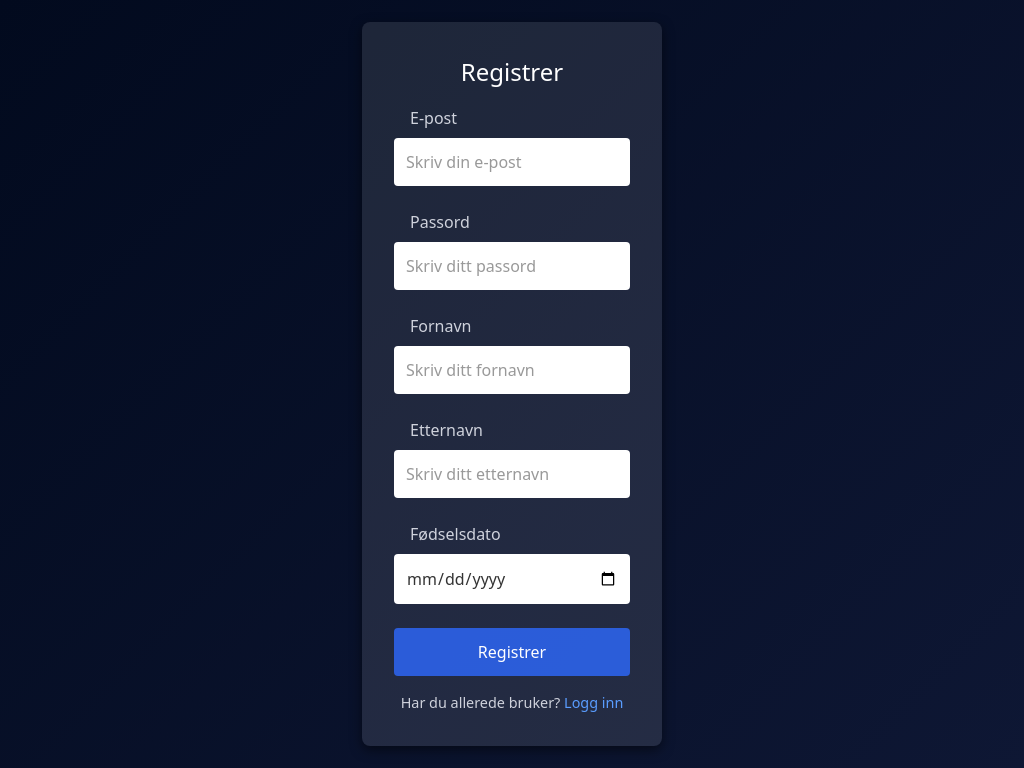
it: displays error message on invalid password
This screenshot has width=1024, height=768.
Step 1. Type "valid@example.com" into the field with placeholder "Skriv din e-post" → (512, 162), box [394,138,630,186]
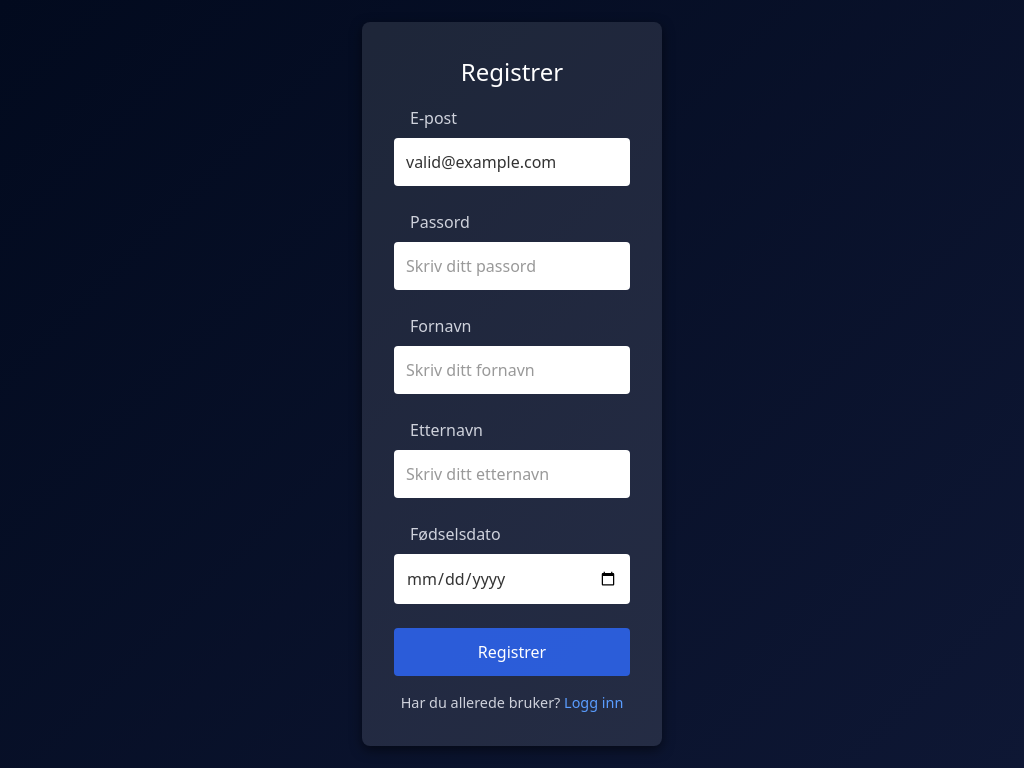
Step 2. Type "invalidpassword" into the password field with placeholder "Skriv ditt passord" → (512, 266), box [394,242,630,290]
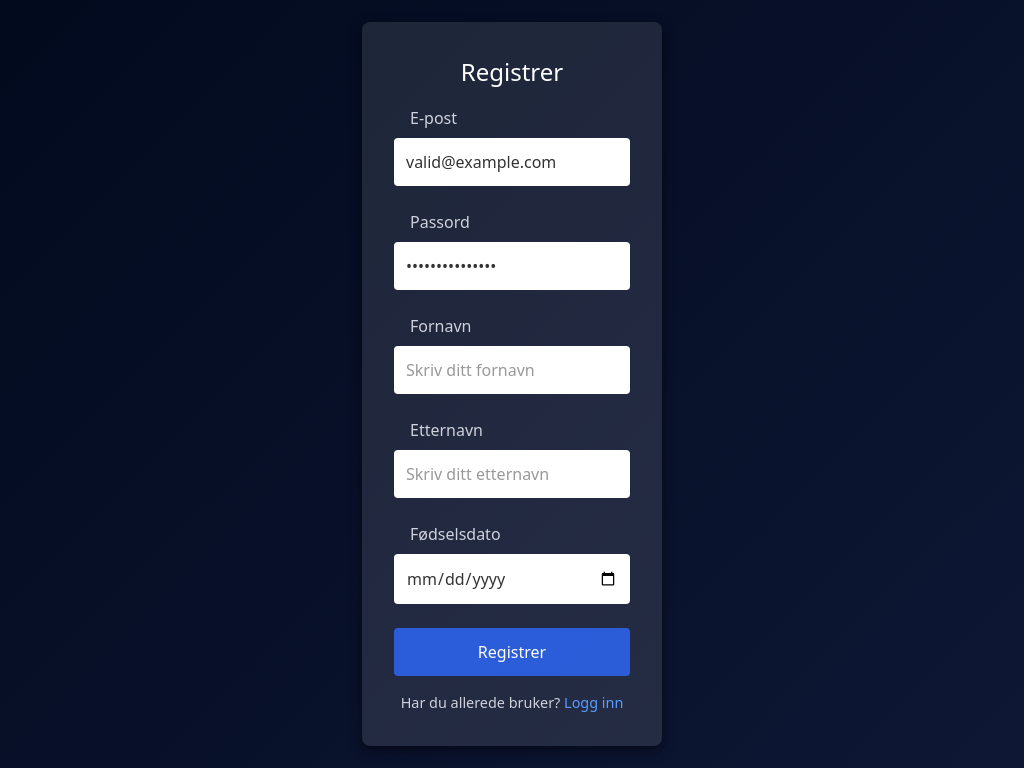
Step 3. Type "Fornavn" into the field with placeholder "Skriv ditt fornavn" → (512, 370), box [394,346,630,394]
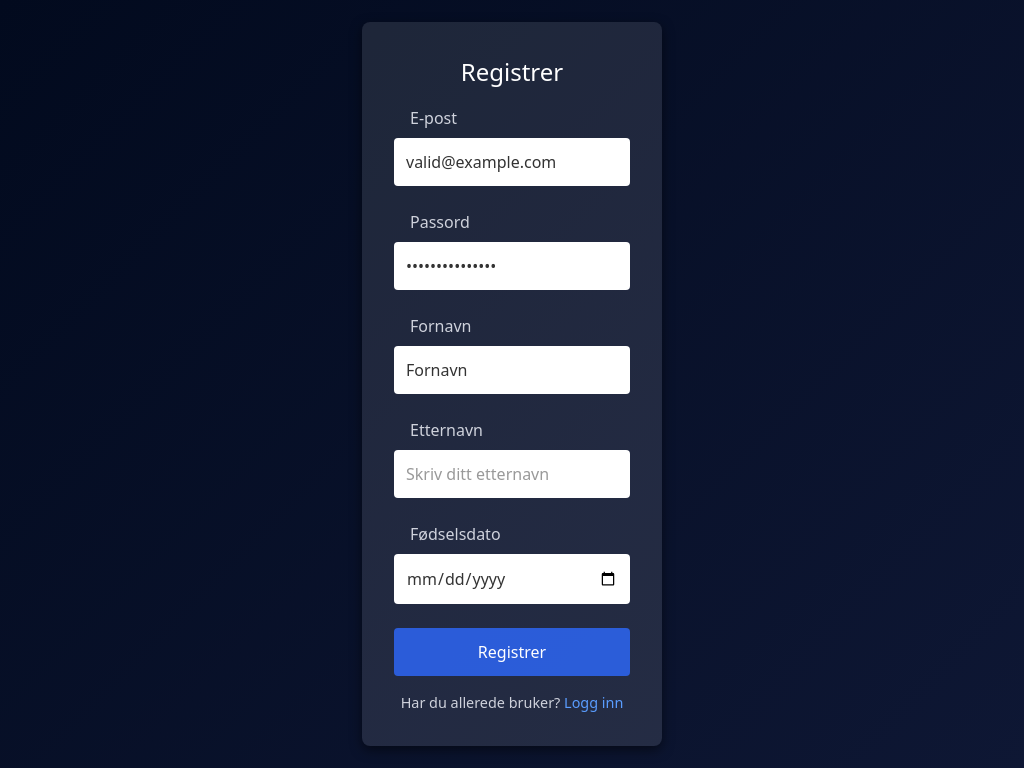
Step 4. Type "Etternavn" into the field with placeholder "Skriv ditt etternavn" → (512, 474), box [394,450,630,498]
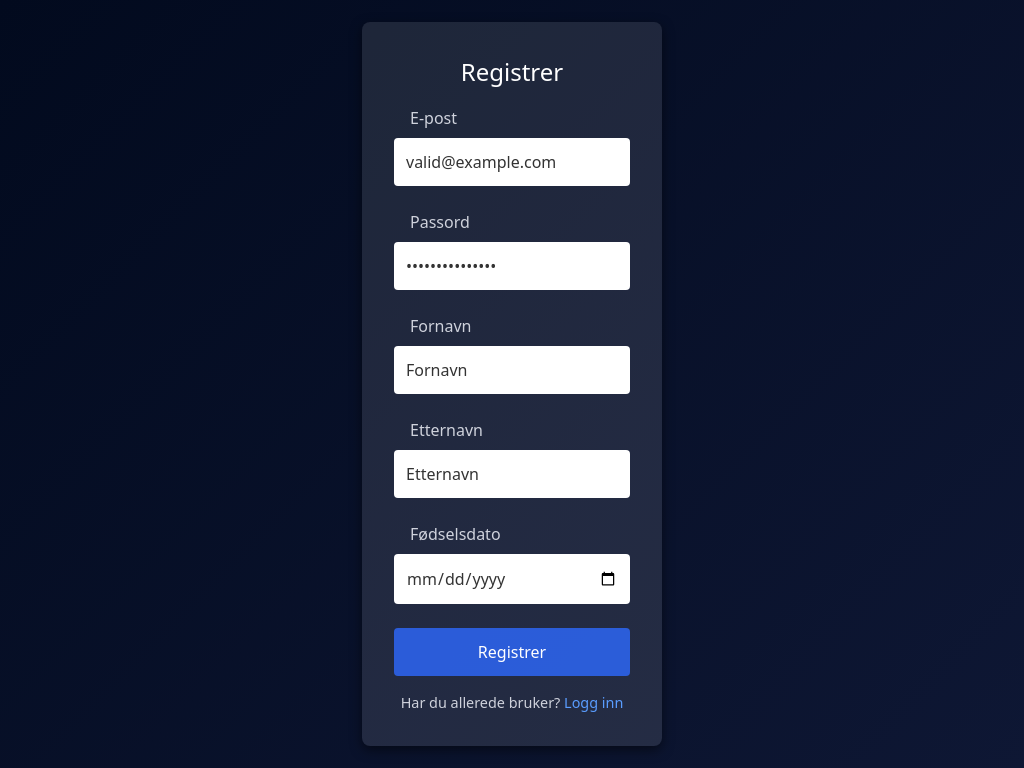
Step 5. Type "2000-01-01" into the date field with placeholder "Enter your date of birth" → (512, 579), box [394,554,630,604]
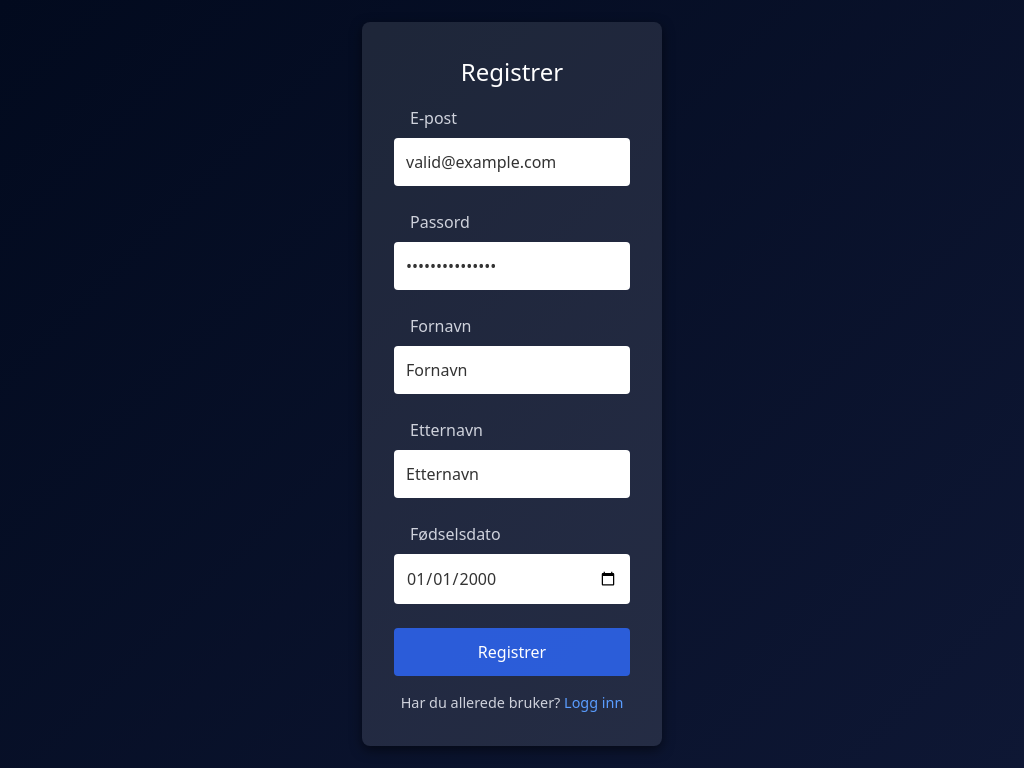
Step 6. Click the button "Registrer" → (512, 652), box [394,628,630,676]
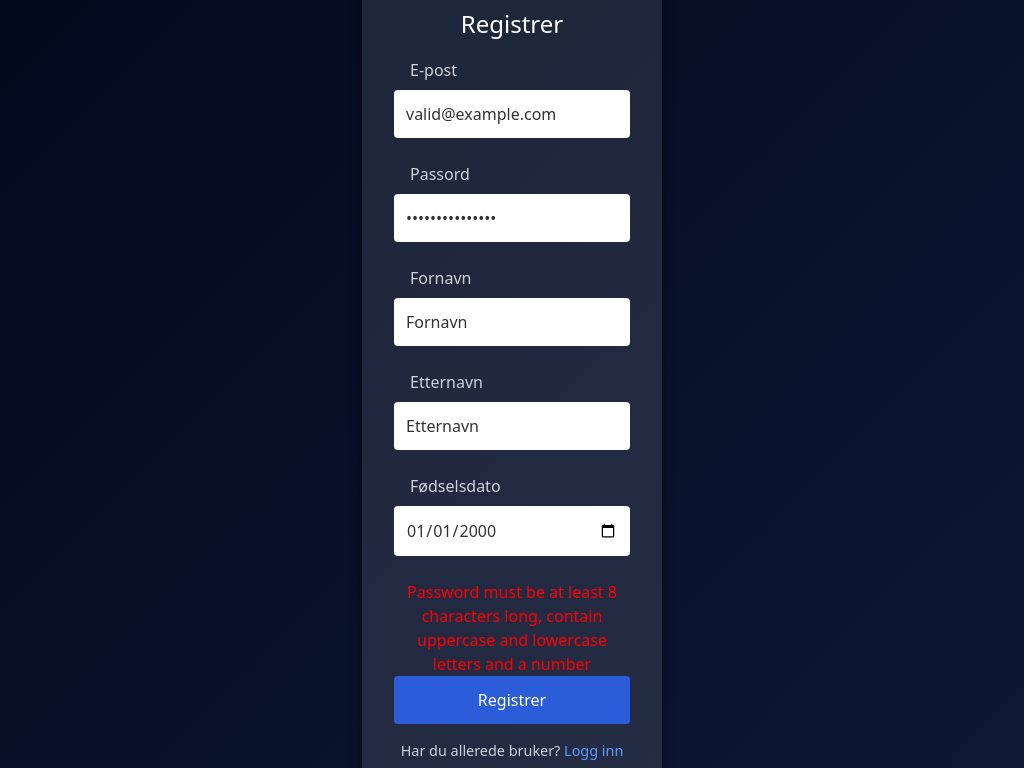
Now the text "Password must be at least 8 characters long, contain uppercase and lowercase letters and a number" is shown, box [407,581,617,675]
